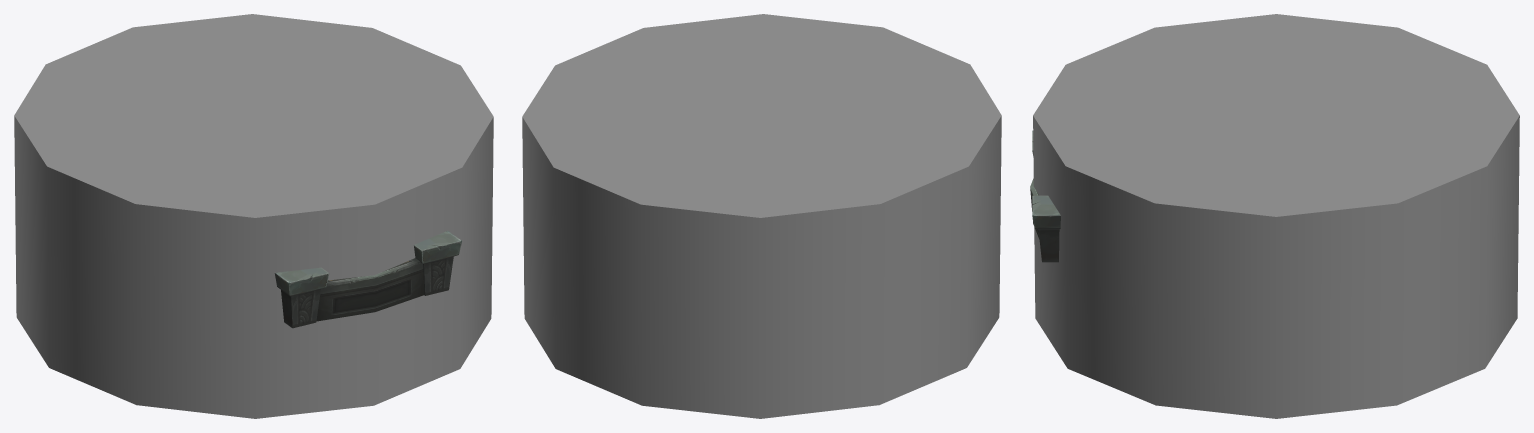
File: fb_jjc_zj_02_a.FBX
3 views of the same model, side by side, from view 1: azimuth 30°, elevation 25°; view 2: azimuth 150°, elevation 25°; view 3: azimuth 270°, elevation 25° (orthographic).
Parts seen in each view (by area): view 1: col_fb_jjc_zj_02_a, fb_jjc_zj_02_a; view 2: col_fb_jjc_zj_02_a; view 3: col_fb_jjc_zj_02_a, fb_jjc_zj_02_a.
Part boxes in pixels (x1=…): col_fb_jjc_zj_02_a: x1=14, y1=14, x2=493, y2=418; fb_jjc_zj_02_a: x1=274, y1=230, x2=461, y2=328; col_fb_jjc_zj_02_a: x1=522, y1=14, x2=1001, y2=418; col_fb_jjc_zj_02_a: x1=1033, y1=14, x2=1519, y2=418; fb_jjc_zj_02_a: x1=1030, y1=130, x2=1060, y2=262.
Bounding box in the file's own units: 817 × 381 × 833.
